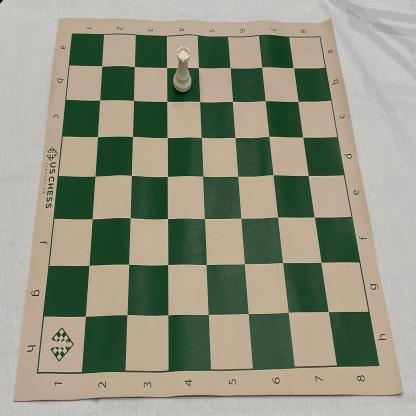white-rook: (173, 45, 193, 93)
